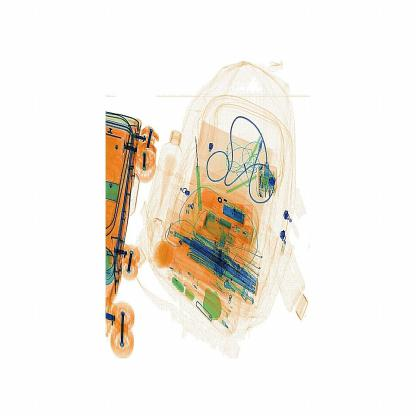wrench: (190, 134, 206, 211)
